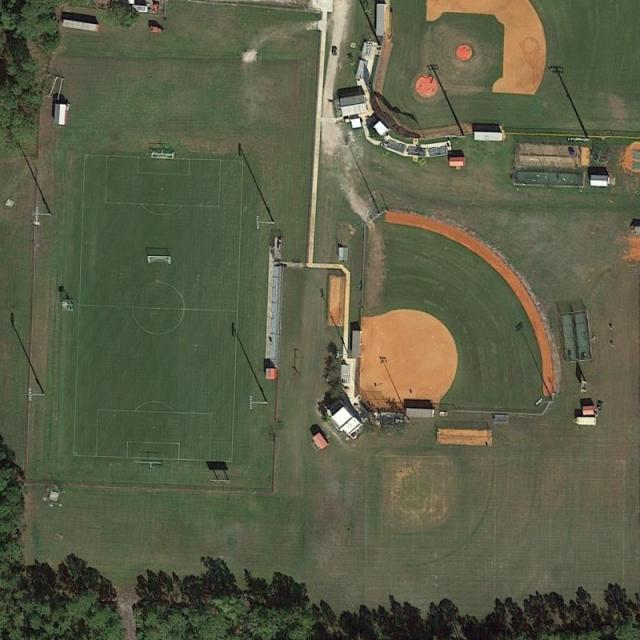vehicle: (331, 46, 338, 57)
